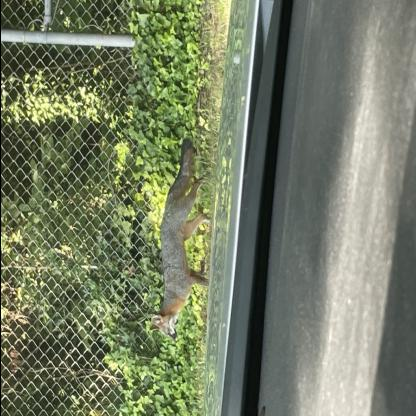zorro: (143, 127, 213, 342)
